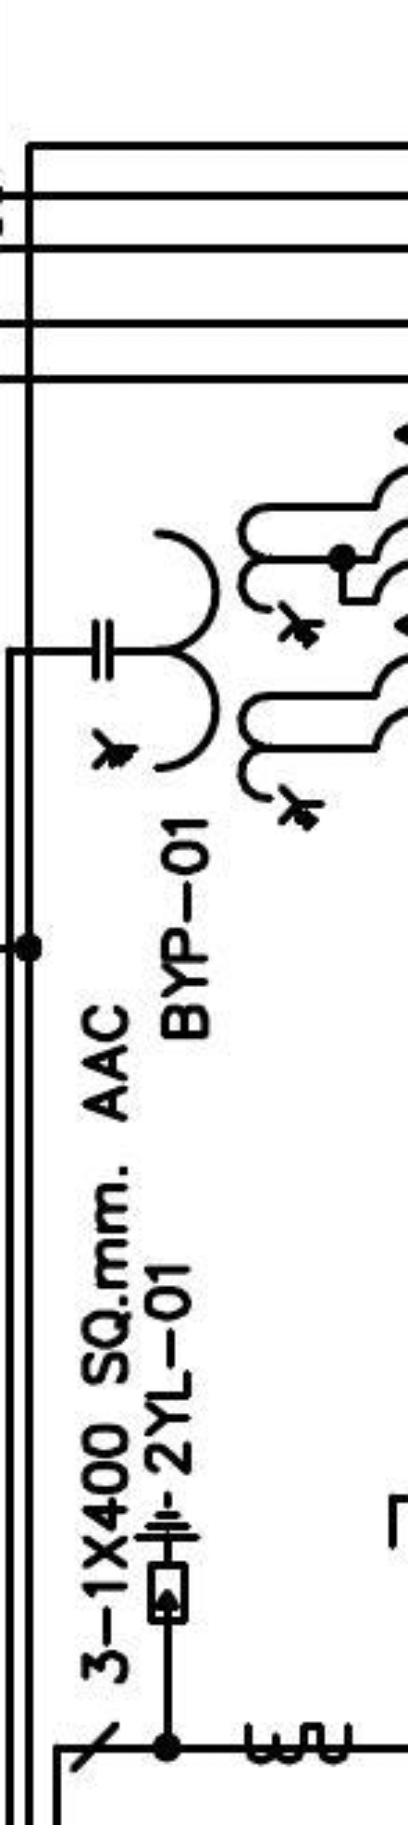115_cvt_3p: (91, 500, 328, 835)
115_la: (131, 1490, 203, 1626)
